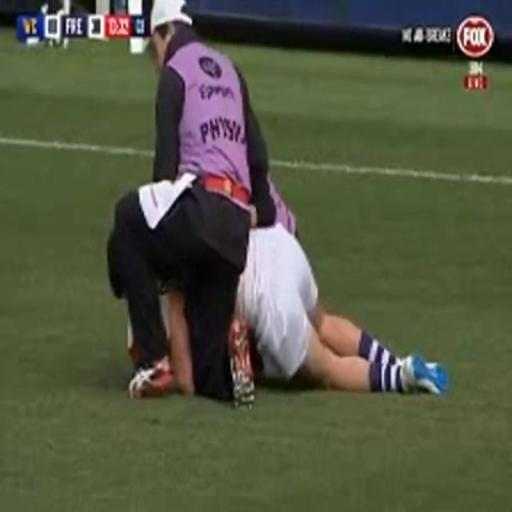nao-violencia: (84, 0, 473, 420)
